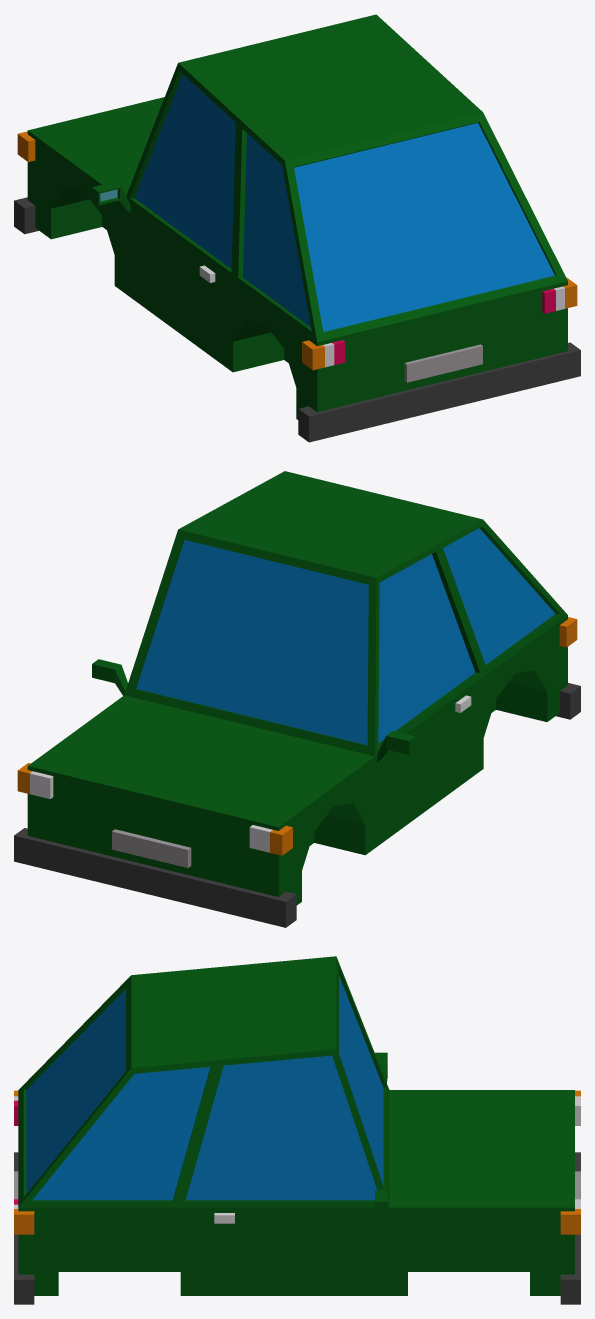
File: car_1.fbx
3 views of the same model, one above another, from view 1: azimuth 30°, elevation 25°; view 2: azimuth 150°, elevation 25°; view 3: azimuth 270°, elevation 25° (orthographic). The views are drawn at different scales.
Visible parts, largest first — view 1: car_1; view 2: car_1; view 3: car_1.
Part boxes in pixels (left/top/right/bottom): car_1: left=14, top=14, right=580, bottom=442; car_1: left=14, top=471, right=580, bottom=927; car_1: left=14, top=956, right=580, bottom=1304.
Bounding box in the file's own units: 2.53 × 4.08 × 1.89.
